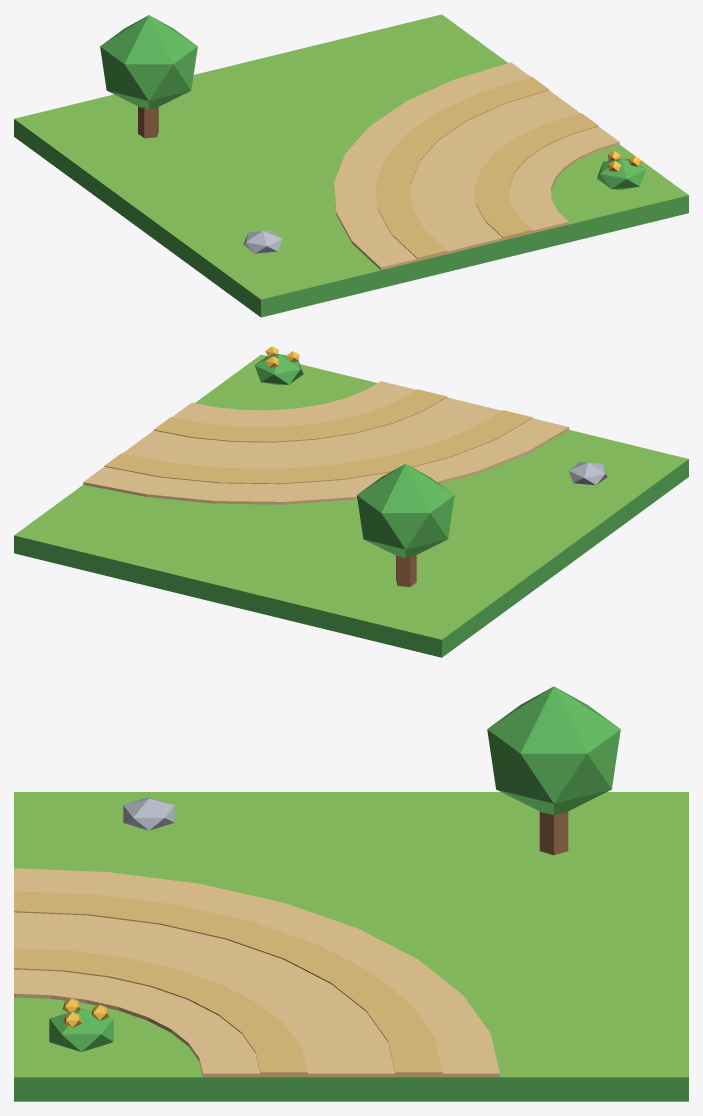
Rendered from road_dirt_corner.glb.
The picture shows the model from 3 angles, top to bottom: view 1: azimuth 30°, elevation 25°; view 2: azimuth 150°, elevation 25°; view 3: azimuth 270°, elevation 25°; orthographic projection. The views are drawn at different scales.
Parts seen in each view (by area): view 1: road_dirt_corner; view 2: road_dirt_corner; view 3: road_dirt_corner.
Boxes of the visible parts, box(x1,y1,x2,y2) form: road_dirt_corner: box(14, 14, 688, 317); road_dirt_corner: box(14, 346, 688, 657); road_dirt_corner: box(14, 686, 688, 1101).
Size of the model in its own units: 1 by 0.306 by 1.
